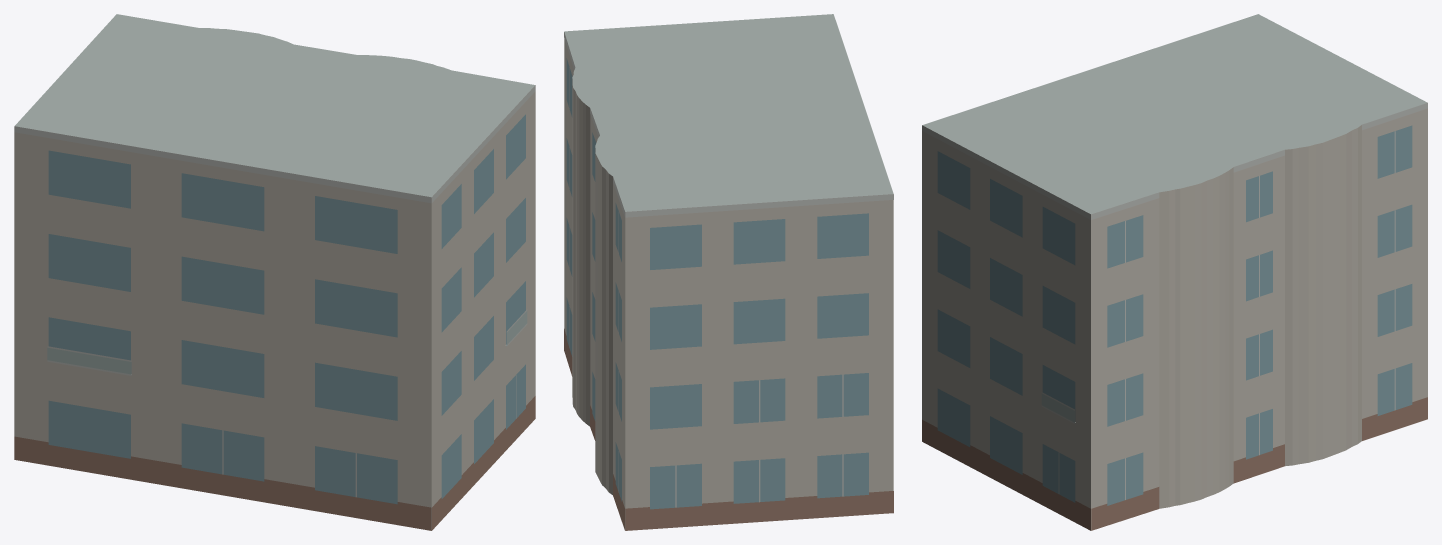
Rendered from survey-upis-32733513.glb.
3 renders of one model, left to right at view 1: azimuth 30°, elevation 25°; view 2: azimuth 150°, elevation 25°; view 3: azimuth 270°, elevation 25°, orthographic. The views are drawn at different scales.
Parts seen in each view (by area): view 1: survey-upis-32733513.tmp; view 2: survey-upis-32733513.tmp; view 3: survey-upis-32733513.tmp.
Part boxes in pixels (bbox=[...]): survey-upis-32733513.tmp: bbox=[14, 14, 535, 530]; survey-upis-32733513.tmp: bbox=[564, 14, 893, 530]; survey-upis-32733513.tmp: bbox=[922, 14, 1427, 530].
Size of the model in its own units: 18.34 by 13.5 by 19.56.
